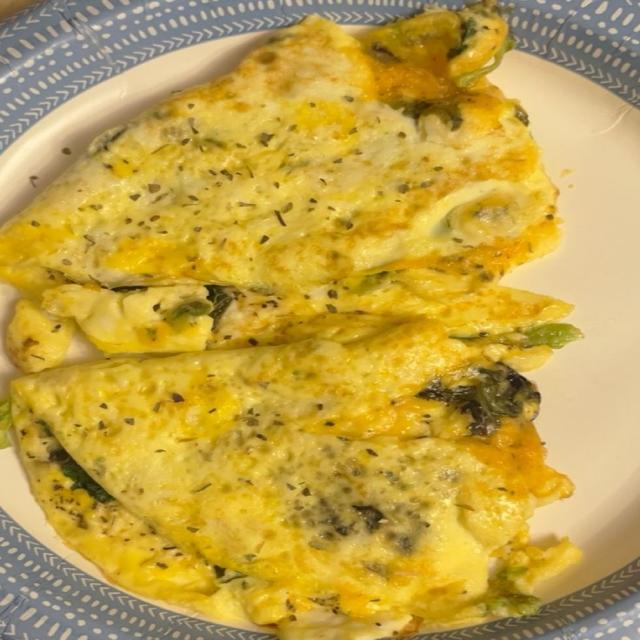omelette: (0, 4, 579, 639)
